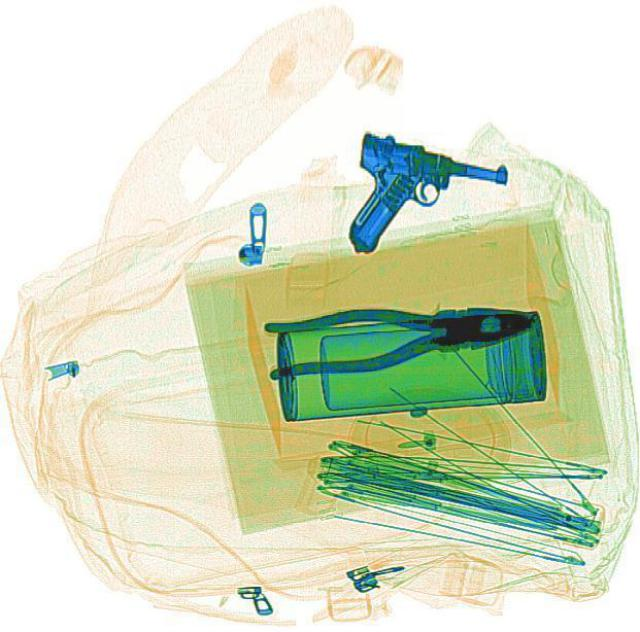Gun: (330, 128, 512, 277)
Pliers: (259, 283, 536, 381)
